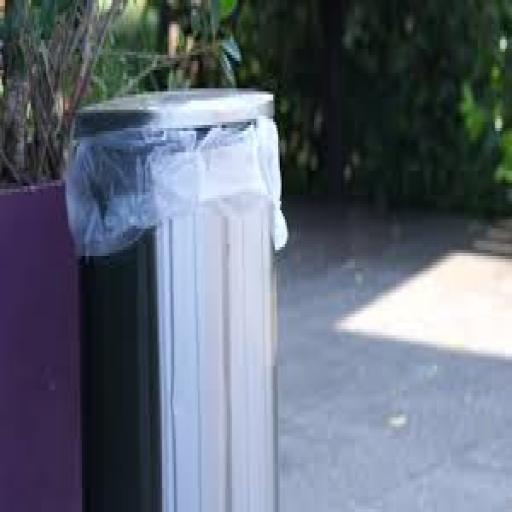poubelle_vide: (57, 59, 310, 512)
